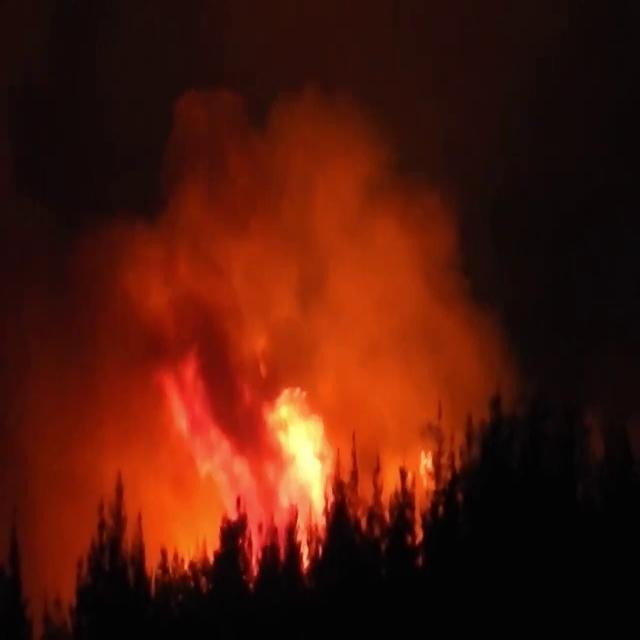Fire: (147, 356, 276, 563), (265, 391, 330, 568), (395, 397, 456, 526)
Smoke: (119, 145, 471, 351), (170, 46, 436, 262), (26, 268, 116, 596)
